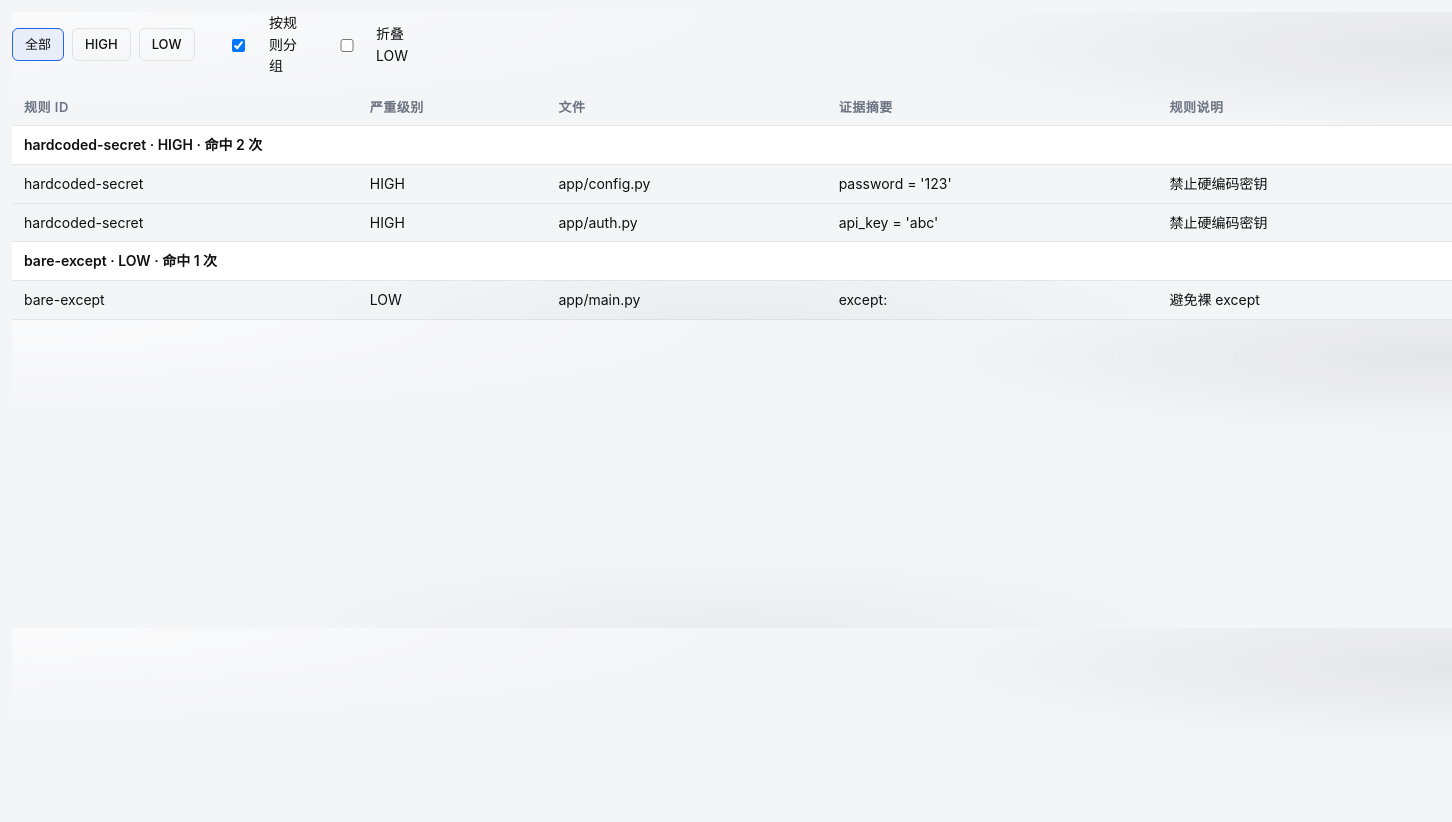
Test: RuleHitsPanel › 取消分组后按行平铺展示
Click the checkbox labelled "按规则分组".
click(238, 45)  # box [214,38,262,52]
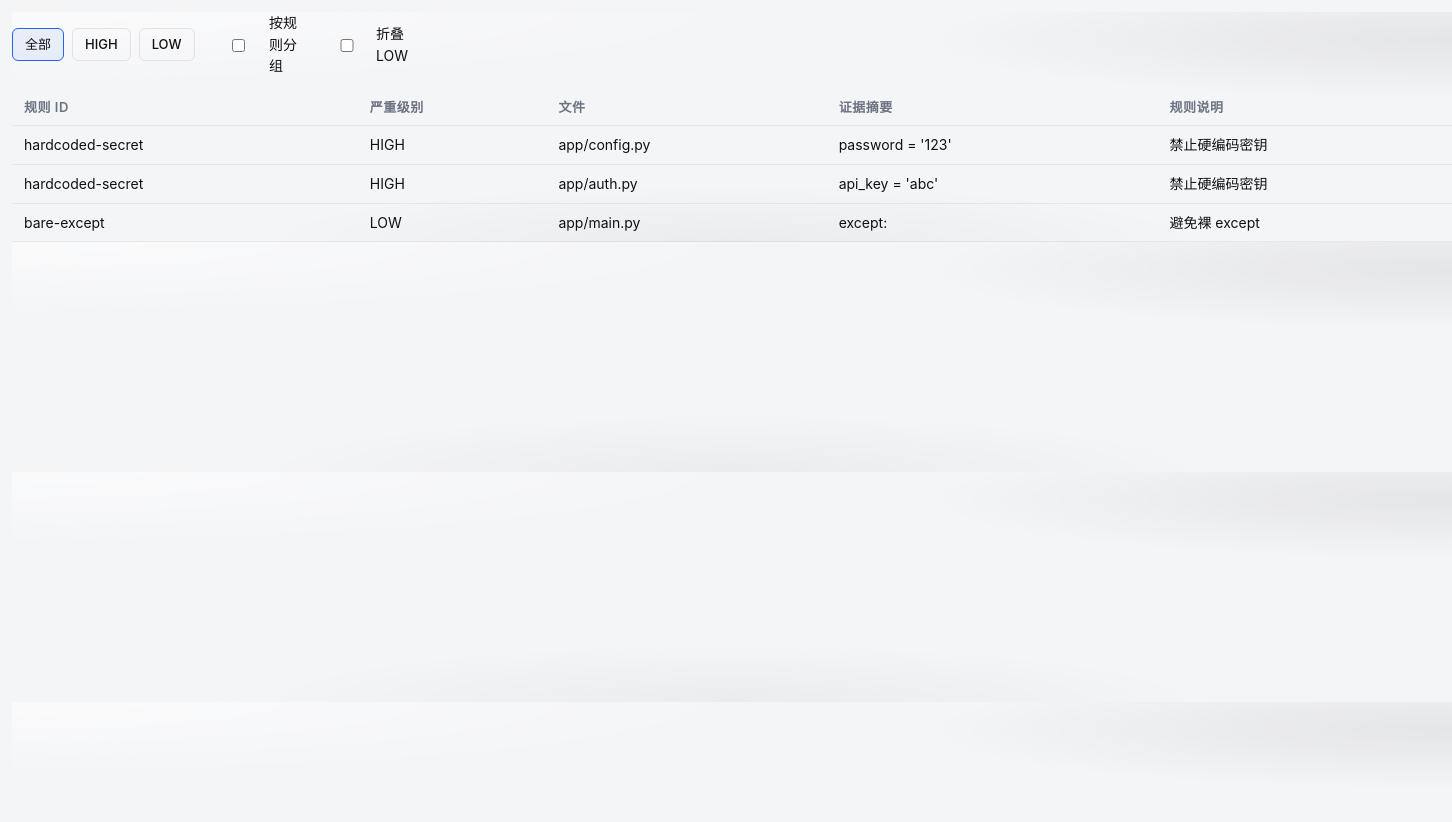
Check: the text "命中 2 次" is gone
